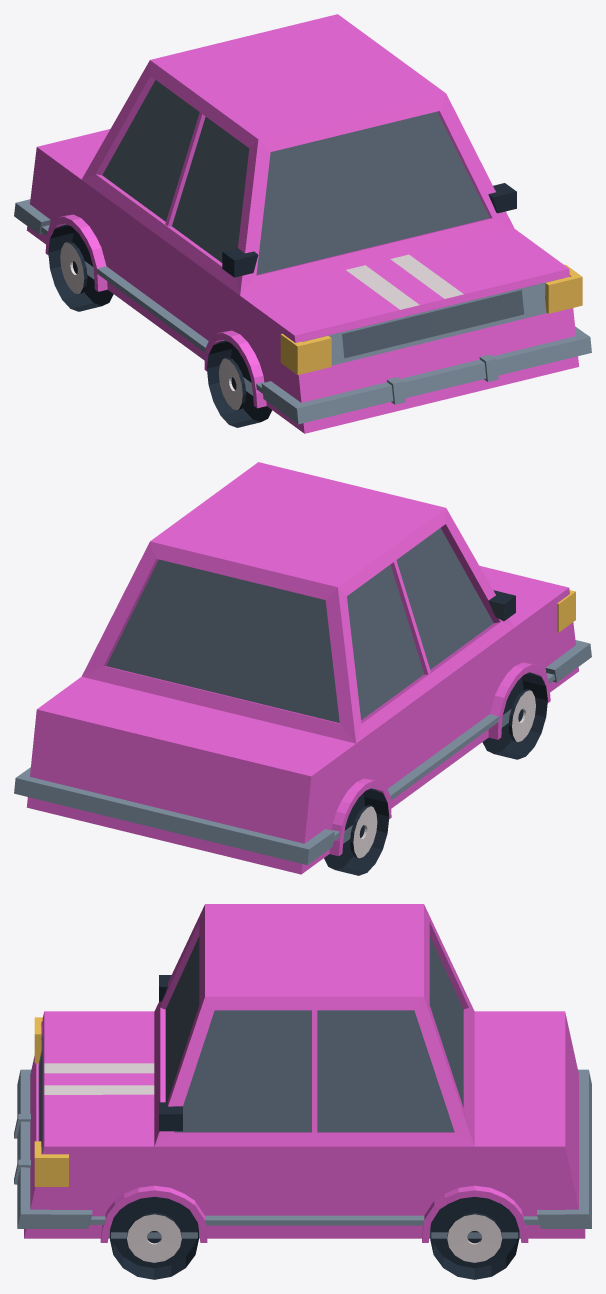
Rendered from car6.fbx.
The picture shows the model from 3 angles, top to bottom: view 1: azimuth 30°, elevation 25°; view 2: azimuth 150°, elevation 25°; view 3: azimuth 270°, elevation 25°; orthographic projection.
Parts seen in each view (by area): view 1: purple.014; view 2: purple.014; view 3: purple.014.
Part boxes in pixels (<box>): purple.014: <box>14,14,591,433</box>; purple.014: <box>14,462,591,875</box>; purple.014: <box>14,904,591,1279</box>.
Size of the model in its own units: 216 by 177 by 361.
